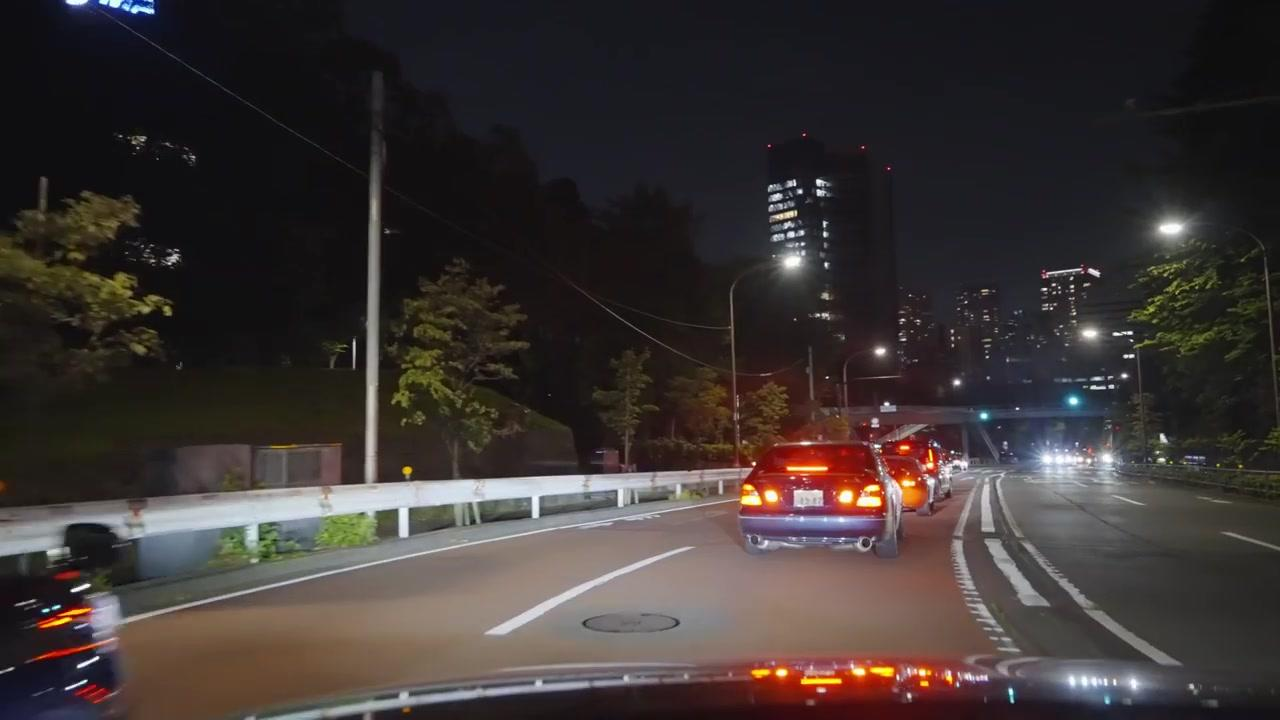car: (0, 554, 133, 717), (737, 440, 907, 558), (888, 431, 953, 502), (883, 454, 933, 515)
traffic light: (1064, 393, 1082, 409), (978, 409, 990, 421)
